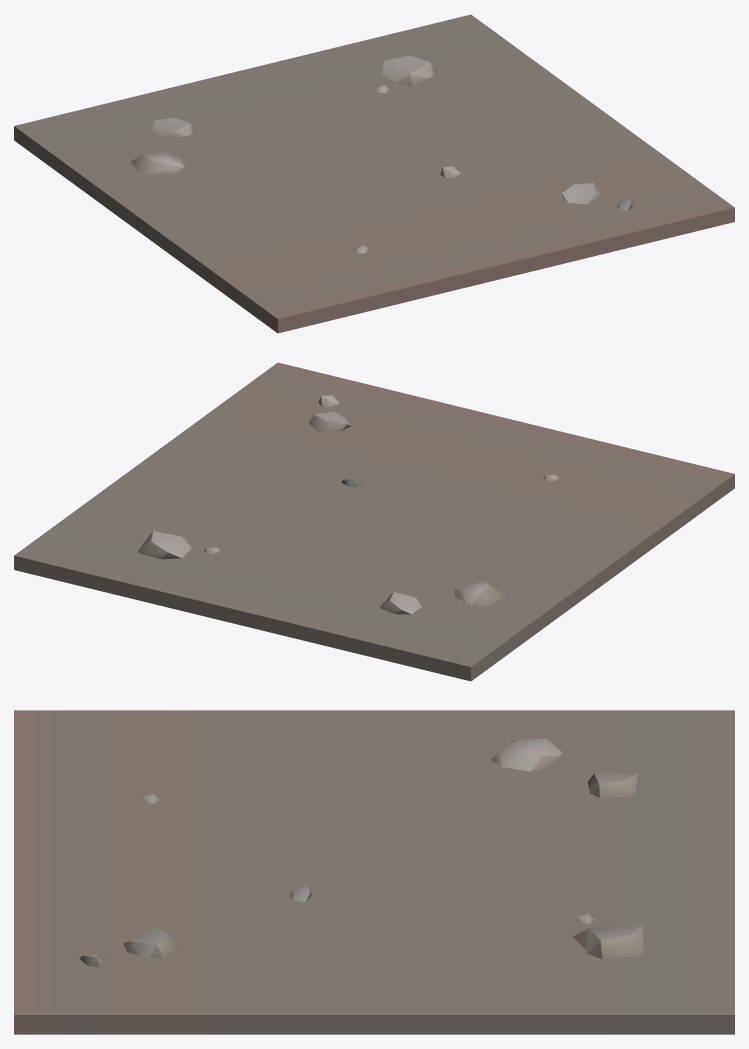
Rendered from floor_dirt_large.glb.
The picture shows the model from 3 angles, top to bottom: view 1: azimuth 30°, elevation 25°; view 2: azimuth 150°, elevation 25°; view 3: azimuth 270°, elevation 25°; orthographic projection. The views are drawn at different scales.
Parts seen in each view (by area): view 1: floor_dirt_large; view 2: floor_dirt_large; view 3: floor_dirt_large.
Boxes of the visible parts, x1,y1,x2,y2 form: floor_dirt_large: (14,14,734,333); floor_dirt_large: (14,362,734,681); floor_dirt_large: (14,710,734,1034).
Size of the model in its own units: 4 by 0.2086 by 4.
1 material, 1 textured.
